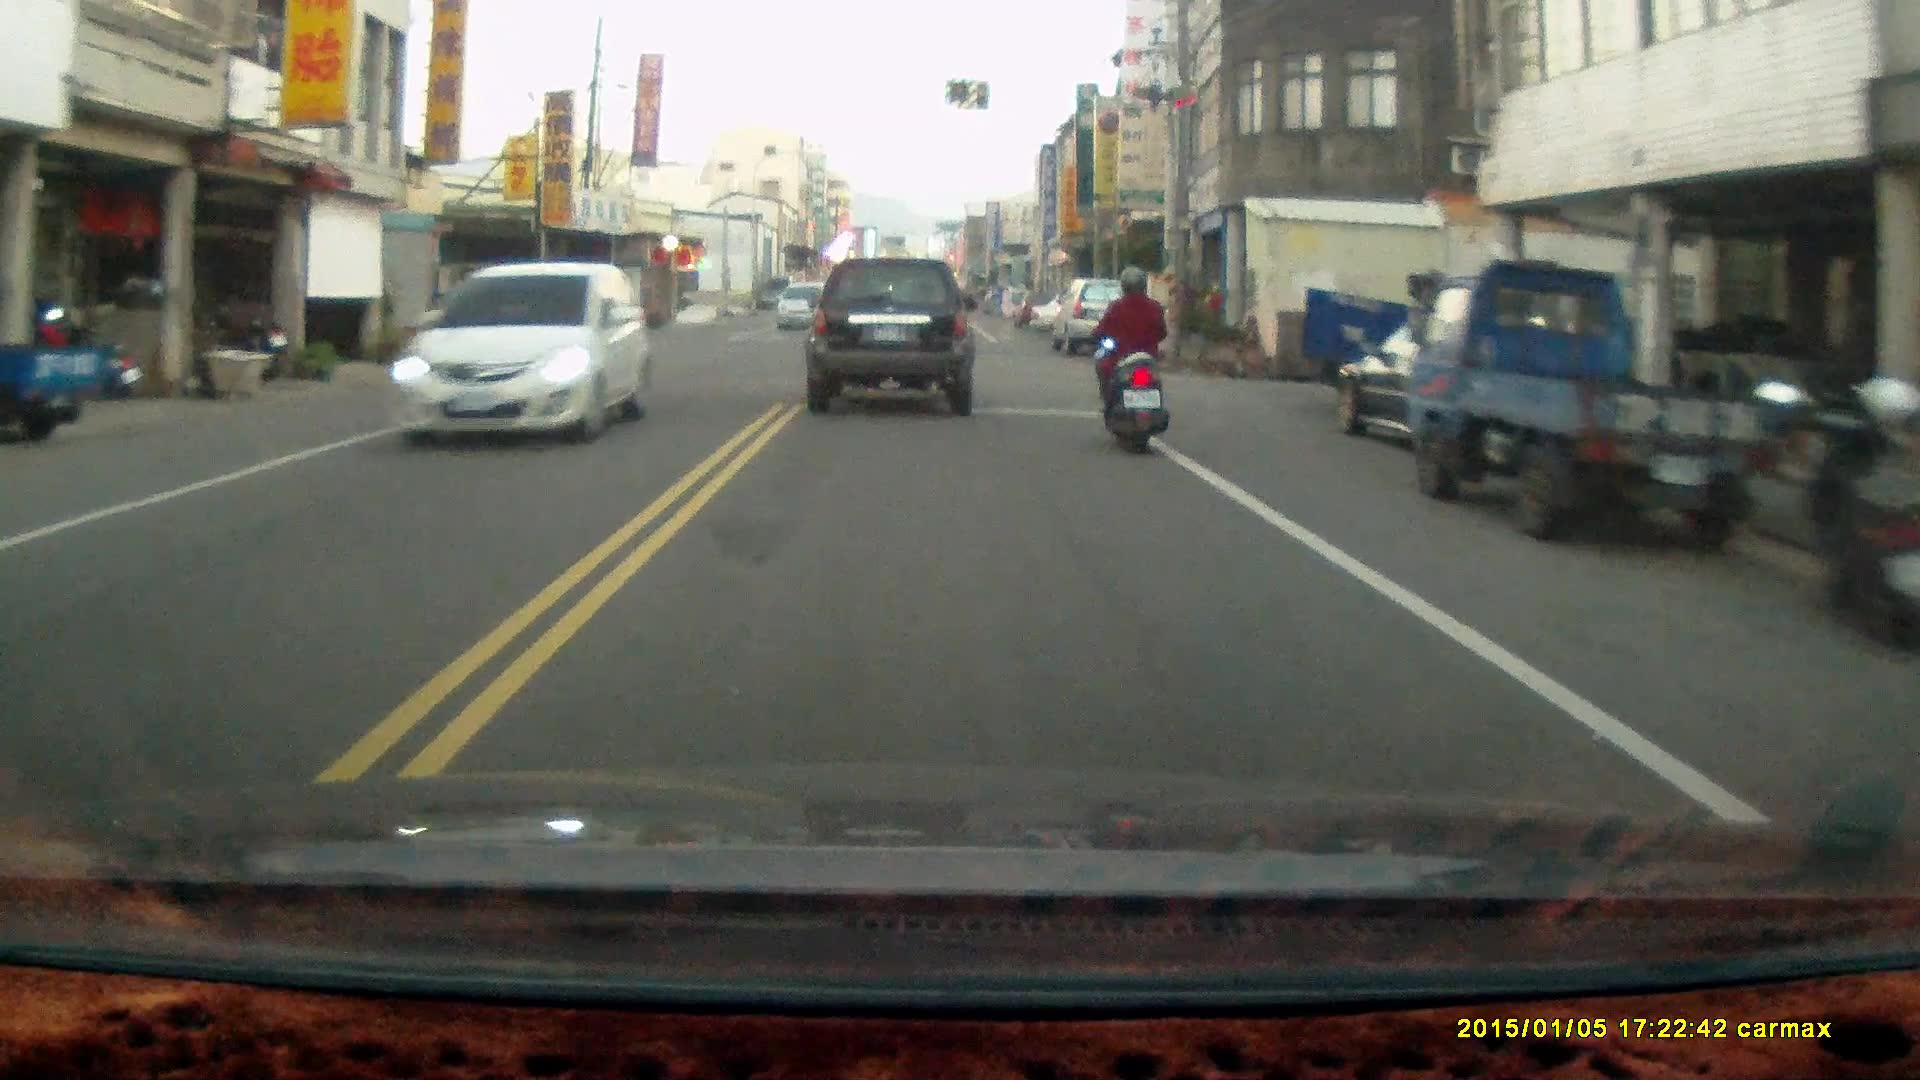rider: (1090, 265, 1170, 457)
vehicle: (1400, 257, 1793, 557), (390, 260, 650, 449), (1335, 316, 1587, 461), (1296, 278, 1534, 431), (804, 254, 985, 420), (1, 267, 123, 449), (1052, 275, 1149, 357)
